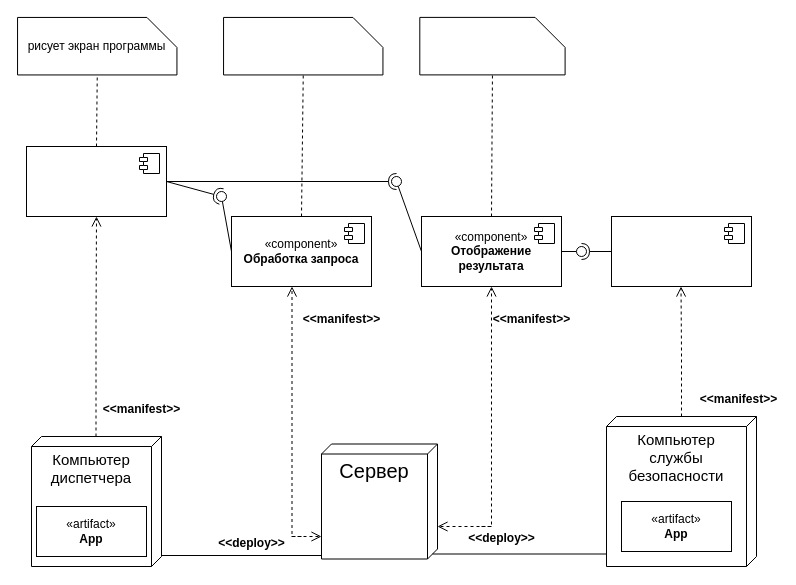
This 796x585 diagram has some shape labels left out. The centre of each missing label's shape, as x and y in pixels:
«component» GUI диспетчера: the point at 96,181
«component» GUI службы безопасности: the point at 681,251
обрабатывает запрос к базе данных: the point at 303,45
происходит вывод результата обращения к БД на экран: the point at 492,45
